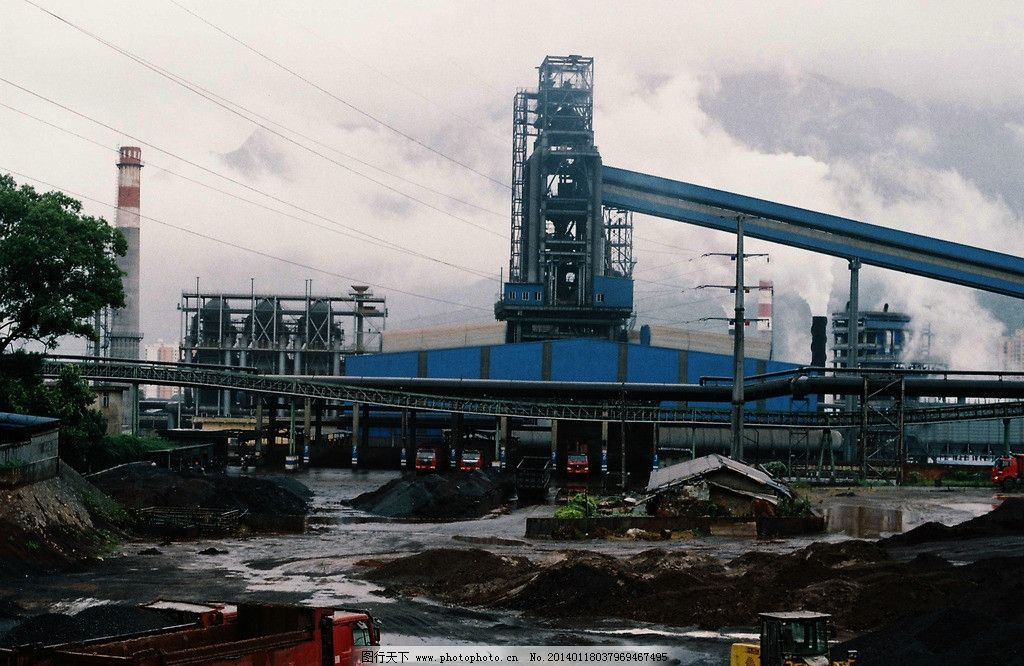dust: (911, 279, 1024, 361)
